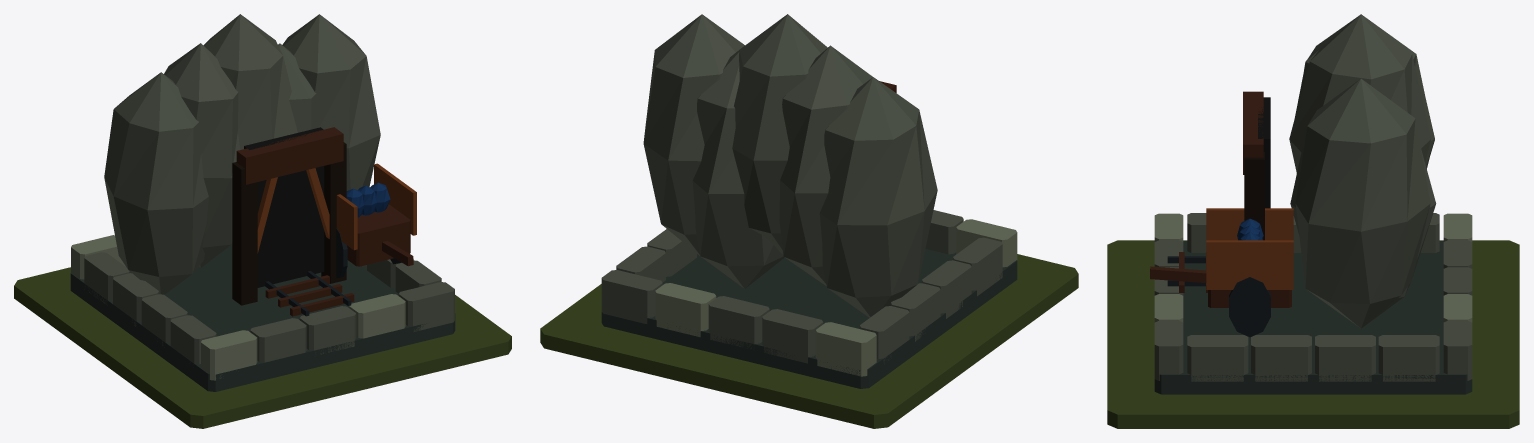
The model's file is mine_t2.glb.
3 views of the same model, side by side, from view 1: azimuth 30°, elevation 25°; view 2: azimuth 150°, elevation 25°; view 3: azimuth 270°, elevation 25° (orthographic). The views are drawn at different scales.
Parts seen in each view (by area): view 1: MMR | mine | T02 Architecture.001, MMR | mine | Tier 02 Ground.001; view 2: MMR | mine | T02 Architecture.001, MMR | mine | Tier 02 Ground.001; view 3: MMR | mine | T02 Architecture.001, MMR | mine | Tier 02 Ground.001.
Boxes of the visible parts, x1,y1,x2,y2 form: MMR | mine | T02 Architecture.001: [70, 14, 455, 391]; MMR | mine | Tier 02 Ground.001: [14, 267, 511, 428]; MMR | mine | T02 Architecture.001: [601, 14, 1017, 388]; MMR | mine | Tier 02 Ground.001: [540, 254, 1078, 428]; MMR | mine | T02 Architecture.001: [1150, 14, 1472, 394]; MMR | mine | Tier 02 Ground.001: [1107, 240, 1519, 428].
Bounding box in the file's own units: 1.3 × 1.14 × 1.3.
Materials: 1 (1 with a texture image).
